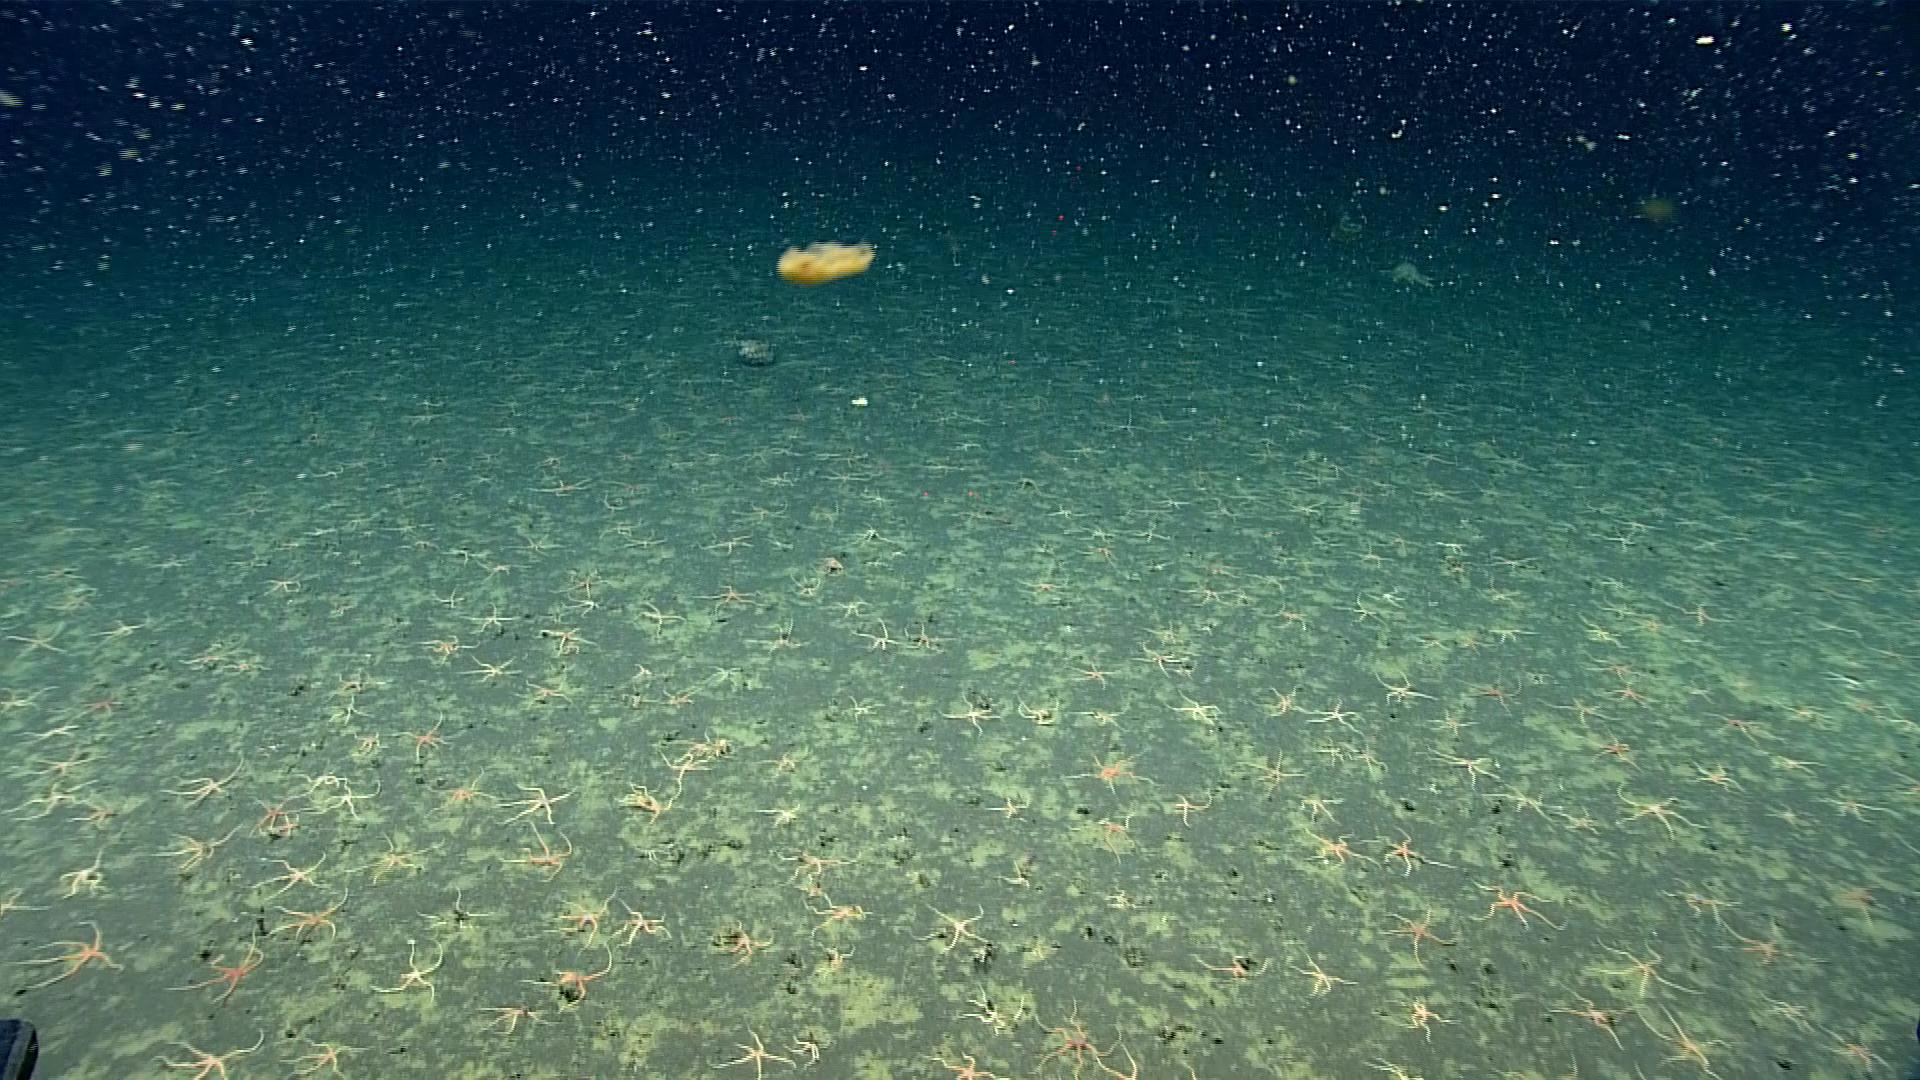brittle_sea_star: (4, 916, 123, 989), (164, 927, 264, 1002), (1597, 936, 1701, 1005), (1031, 998, 1116, 1073), (1639, 1002, 1725, 1076), (1549, 982, 1638, 1051), (160, 1026, 265, 1079), (1721, 920, 1824, 972), (525, 953, 613, 1010), (1, 778, 103, 827), (146, 822, 240, 874), (537, 886, 609, 951), (344, 835, 435, 886), (1607, 785, 1698, 835), (1378, 909, 1456, 967), (1472, 882, 1560, 932), (372, 939, 444, 1000), (713, 1025, 791, 1079), (914, 899, 990, 952), (502, 824, 572, 878), (268, 897, 347, 944), (495, 779, 575, 825), (413, 886, 491, 934), (384, 713, 459, 761), (605, 898, 671, 952), (1290, 953, 1354, 1006), (1428, 745, 1502, 791), (1486, 778, 1560, 824), (160, 765, 245, 804), (414, 770, 489, 815), (1375, 832, 1451, 877), (1068, 753, 1149, 794), (286, 1036, 368, 1075), (769, 844, 852, 881), (256, 852, 328, 894), (803, 891, 876, 934), (1299, 828, 1369, 872), (1663, 882, 1739, 922), (1396, 997, 1461, 1043), (309, 779, 381, 820), (961, 985, 1023, 1033), (712, 923, 775, 969), (1189, 949, 1271, 984), (1085, 808, 1137, 862), (57, 851, 113, 898), (1238, 752, 1303, 793), (942, 692, 1002, 736), (8, 749, 95, 779), (475, 997, 547, 1033), (624, 782, 678, 828), (1705, 707, 1770, 745), (1247, 683, 1315, 719), (1581, 728, 1638, 770), (459, 600, 525, 636), (8, 620, 69, 658), (1371, 671, 1432, 709), (1826, 1031, 1884, 1071), (700, 580, 764, 616), (922, 1048, 996, 1079), (1762, 992, 1815, 1034), (1818, 794, 1891, 824), (454, 653, 521, 684), (1836, 880, 1886, 920), (245, 794, 297, 833), (750, 620, 810, 654), (1100, 1038, 1149, 1079), (1545, 696, 1614, 725), (413, 632, 475, 663), (1464, 676, 1520, 711), (1143, 613, 1200, 647), (655, 749, 712, 782), (518, 674, 570, 709), (1164, 793, 1216, 828), (626, 600, 682, 633), (1166, 694, 1221, 727), (1133, 641, 1182, 678), (1362, 1052, 1428, 1079), (856, 618, 902, 655), (1313, 699, 1367, 729), (1295, 790, 1346, 822), (535, 625, 592, 653), (1010, 571, 1069, 597), (673, 732, 735, 757), (92, 617, 145, 646), (1342, 541, 1394, 570), (559, 589, 611, 618), (1071, 659, 1120, 690), (1691, 762, 1739, 793), (899, 622, 949, 651), (322, 694, 369, 724), (1171, 582, 1232, 605), (73, 798, 127, 824), (1267, 599, 1308, 633), (0, 886, 46, 916), (786, 1031, 832, 1062), (1590, 651, 1633, 684), (18, 721, 83, 742), (1071, 541, 1121, 567), (1345, 597, 1389, 628), (1017, 699, 1060, 728), (295, 769, 345, 794), (1672, 601, 1720, 628), (1071, 705, 1126, 728), (1073, 521, 1118, 549), (521, 479, 587, 497), (1350, 749, 1389, 781), (1424, 713, 1477, 736), (178, 644, 224, 669), (705, 529, 749, 555), (835, 694, 874, 721), (1561, 810, 1601, 837), (986, 798, 1034, 820), (731, 501, 787, 520), (655, 687, 702, 709), (1477, 584, 1523, 607), (320, 671, 369, 692), (1371, 583, 1408, 611), (851, 522, 889, 549), (471, 559, 525, 578), (822, 944, 856, 972), (1767, 803, 1809, 825), (1780, 700, 1820, 724), (1130, 521, 1170, 545), (1767, 753, 1817, 771), (760, 804, 802, 825), (832, 596, 874, 617), (80, 695, 120, 717), (349, 729, 382, 756), (1150, 491, 1191, 512), (812, 550, 847, 575), (1607, 682, 1646, 704), (1448, 634, 1484, 658), (1490, 625, 1539, 642), (1491, 553, 1536, 571), (1319, 741, 1349, 767), (1809, 615, 1849, 634), (222, 654, 258, 675), (764, 750, 799, 771), (144, 555, 191, 571), (790, 574, 819, 599), (1283, 498, 1325, 516), (1681, 679, 1712, 703), (853, 488, 894, 505), (1005, 864, 1031, 890), (562, 572, 595, 593), (264, 575, 303, 592), (1604, 534, 1643, 551), (434, 545, 480, 559), (632, 661, 658, 682), (433, 588, 460, 607), (620, 690, 645, 708), (603, 522, 636, 535), (1052, 504, 1075, 518)
